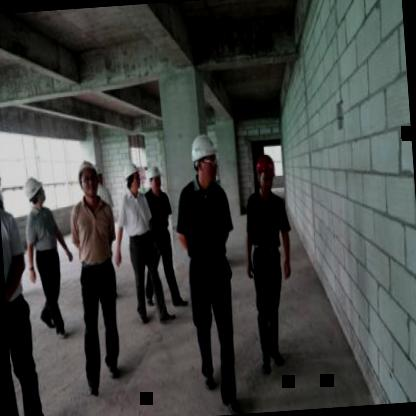helmet: (187, 128, 222, 188), (250, 150, 278, 202), (20, 170, 52, 213), (75, 158, 99, 200), (121, 156, 144, 198), (144, 156, 166, 199)
